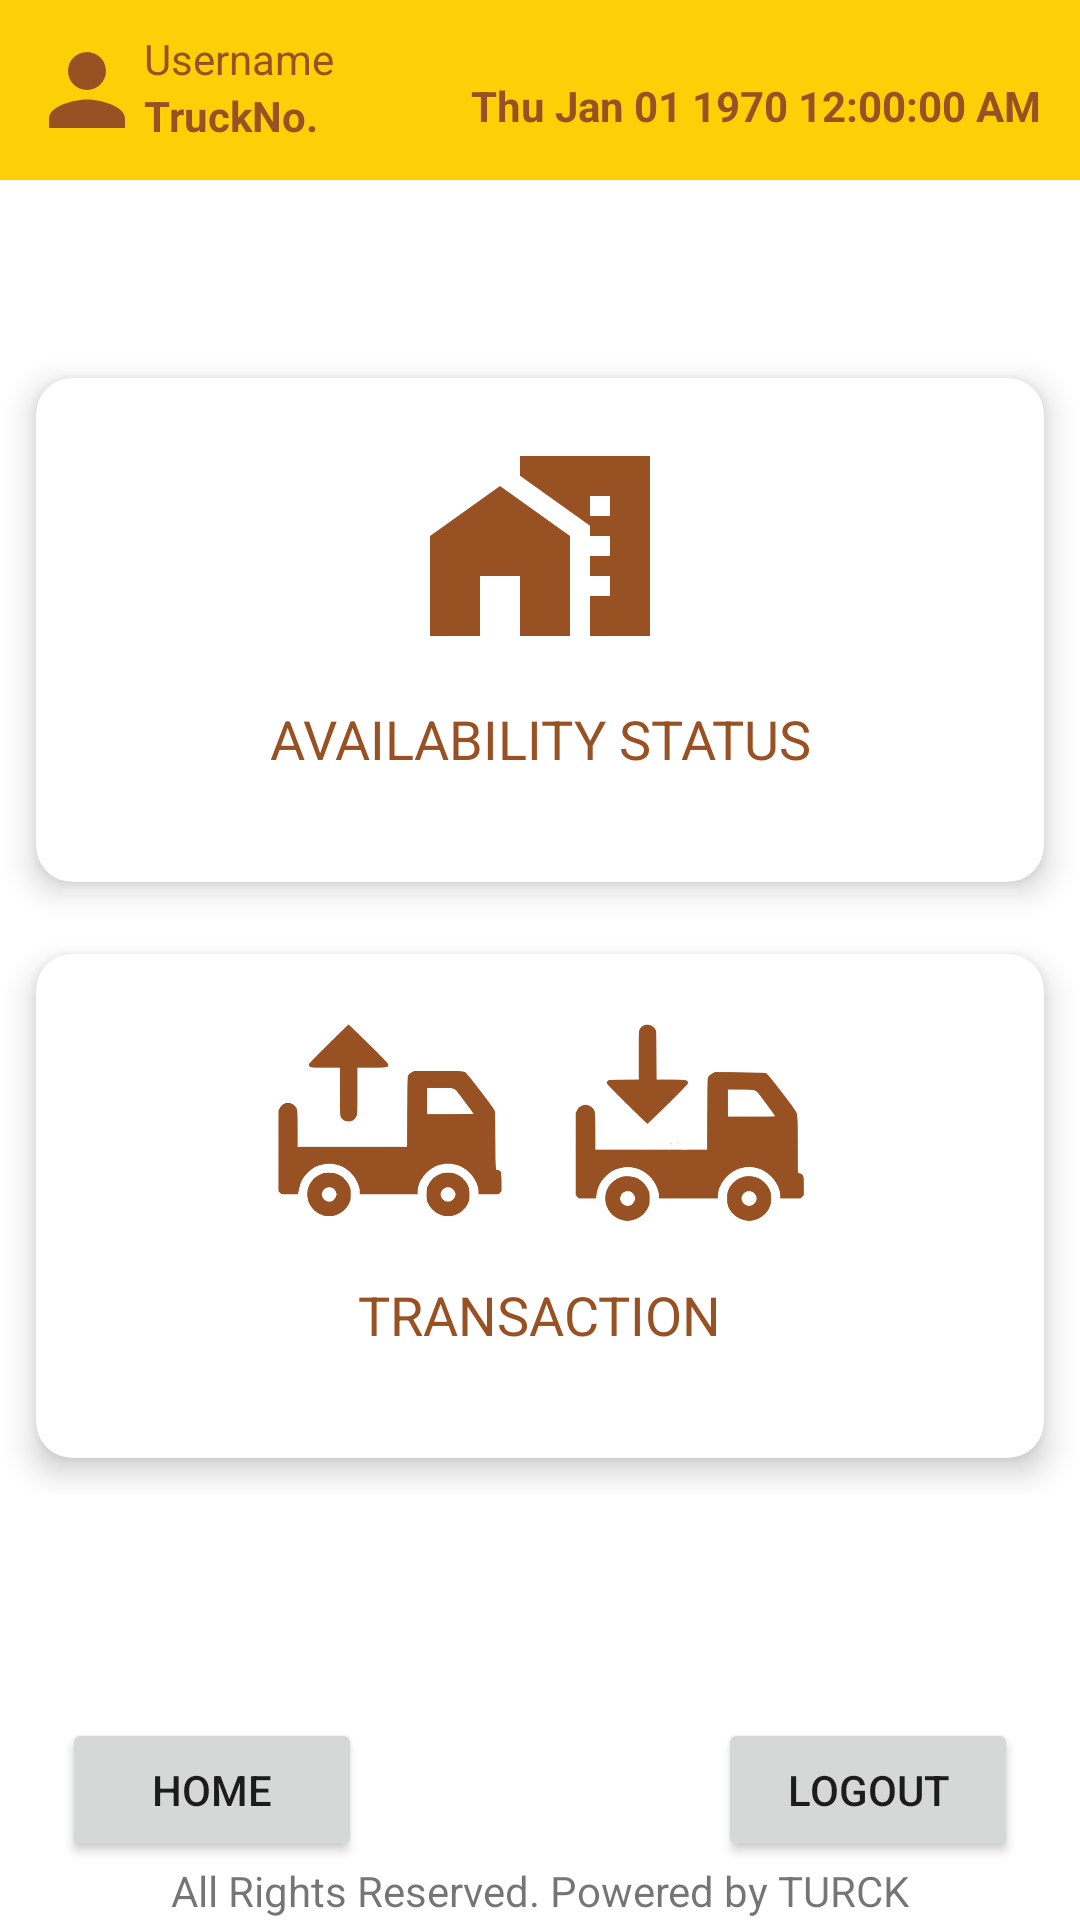

Where to tap for icons on this 1080w x 1920h app screen, as [x,y]:
person: [87,90]
